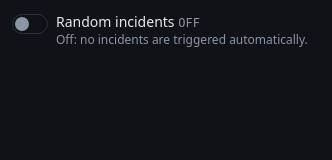
RandomIncidentsControl › shows a network failure and keeps the state
What coordinates should you click on to do the following:
click the switch named "Random incidents"
I would click on:
 (30, 24)
Its box is [12,14,48,34].
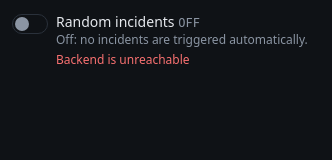
Now the message "Backend is unreachable" is shown, box [56,51,190,68]
